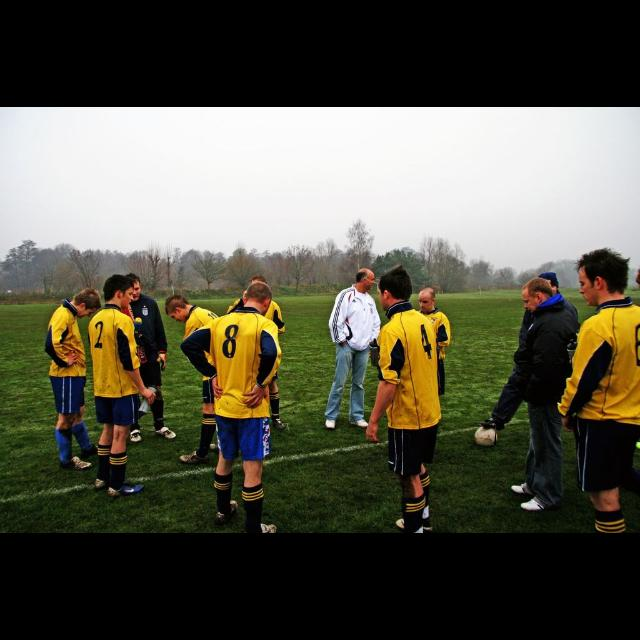Football: (474, 427, 496, 445)
